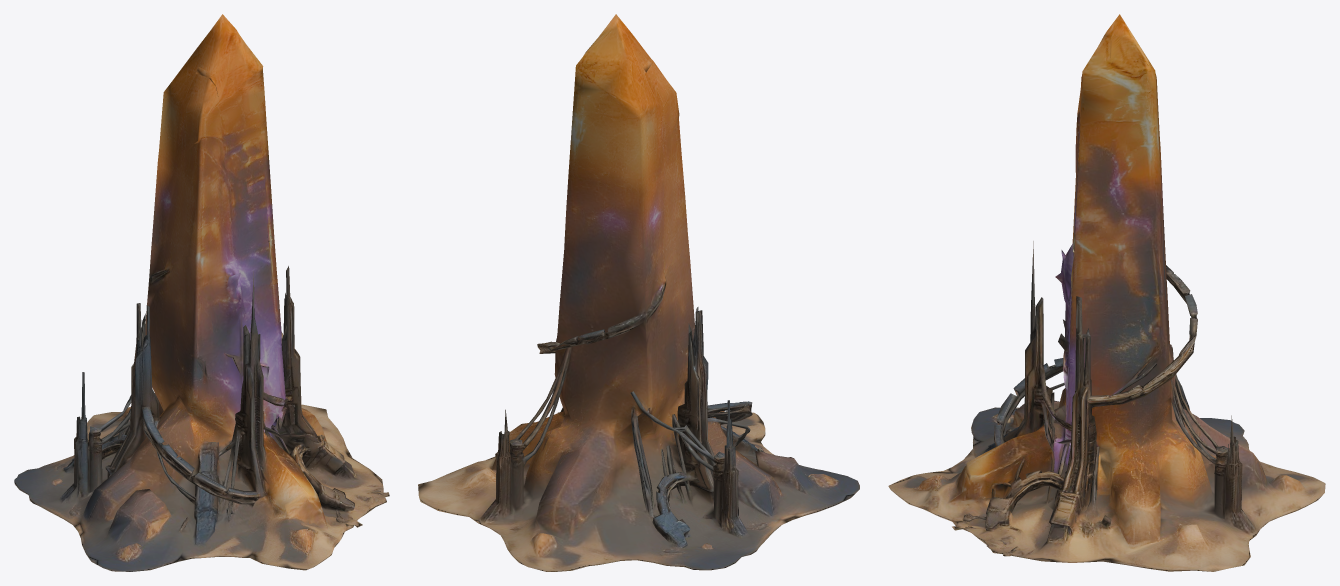
File: giant_energy_crystal_pillar_1.glb
3 views of the same model, side by side, from view 1: azimuth 30°, elevation 25°; view 2: azimuth 150°, elevation 25°; view 3: azimuth 270°, elevation 25° (orthographic). The views are drawn at different scales.
Parts seen in each view (by area): view 1: tripo_node_e3ecf2dc-d014-4e76-bca1-cf87f30e9ca4; view 2: tripo_node_e3ecf2dc-d014-4e76-bca1-cf87f30e9ca4; view 3: tripo_node_e3ecf2dc-d014-4e76-bca1-cf87f30e9ca4.
Boxes of the visible parts, bbox=[...] form: tripo_node_e3ecf2dc-d014-4e76-bca1-cf87f30e9ca4: bbox=[14, 14, 389, 571]; tripo_node_e3ecf2dc-d014-4e76-bca1-cf87f30e9ca4: bbox=[418, 14, 859, 571]; tripo_node_e3ecf2dc-d014-4e76-bca1-cf87f30e9ca4: bbox=[888, 14, 1325, 571].
Size of the model in its own units: 0.7177 by 0.9767 by 0.7939.
Materials: 1 (1 with a texture image).
